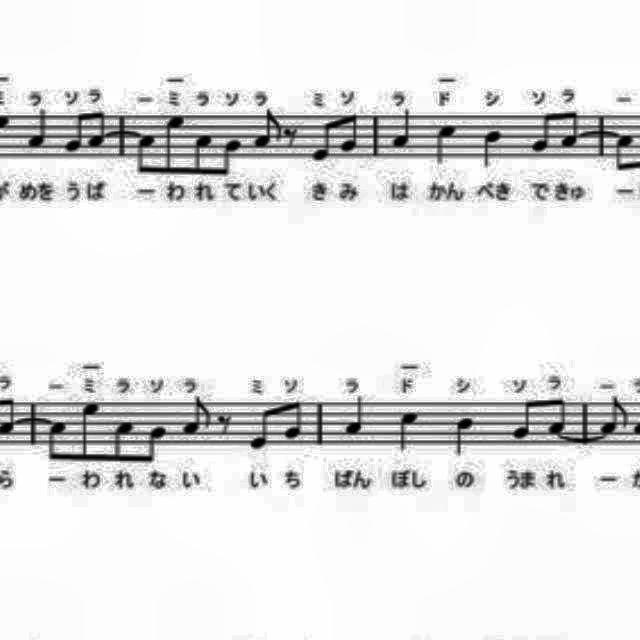Eighth-note: (160, 112, 188, 180), (76, 397, 104, 463), (108, 414, 138, 468), (507, 396, 539, 446), (306, 110, 334, 167), (246, 402, 276, 454), (179, 394, 213, 438), (252, 107, 284, 153), (528, 104, 556, 156), (142, 422, 174, 466), (598, 395, 630, 439), (40, 420, 72, 464), (190, 132, 218, 180), (218, 136, 248, 180), (610, 132, 640, 174), (282, 396, 308, 444), (59, 108, 85, 156), (338, 108, 362, 156), (85, 108, 109, 156), (558, 105, 582, 151), (134, 132, 158, 176), (546, 394, 568, 438)
Eighth-rest: (213, 408, 235, 440), (280, 119, 300, 151)
Quarter-note: (390, 405, 426, 455), (391, 108, 423, 152), (26, 106, 54, 156), (450, 411, 478, 459), (343, 392, 372, 438), (432, 119, 458, 170), (480, 126, 504, 174)
